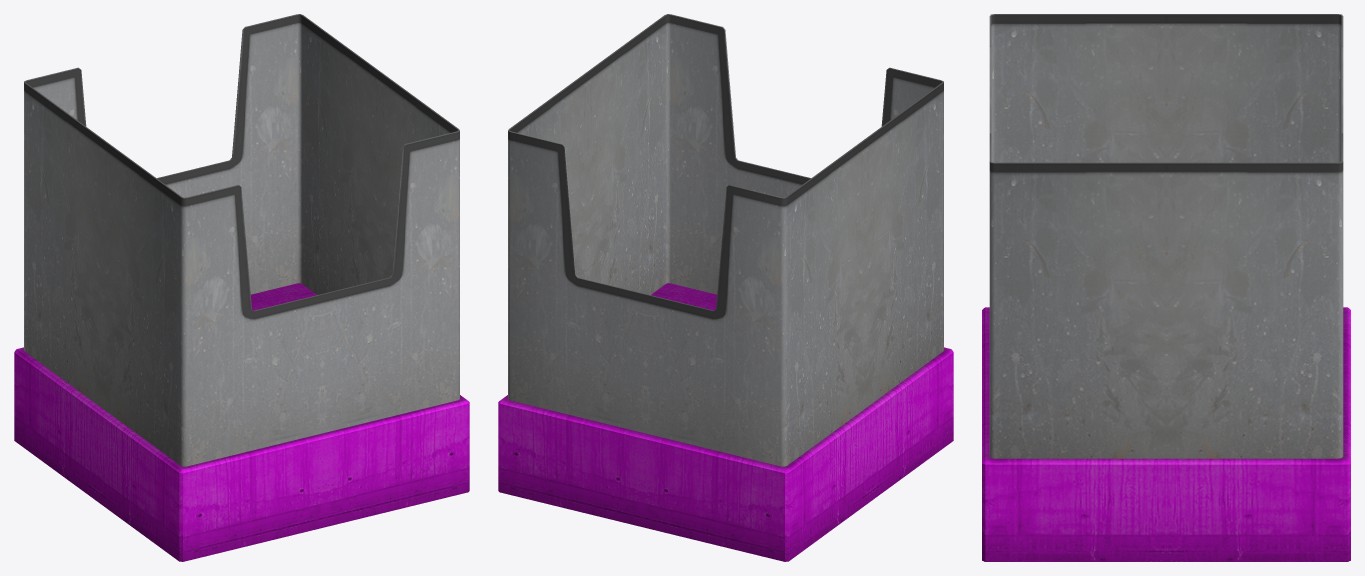
The model's file is bin_purple.dae.
The picture shows the model from 3 angles, left to right: view 1: azimuth 30°, elevation 25°; view 2: azimuth 150°, elevation 25°; view 3: azimuth 270°, elevation 25°; orthographic projection. The views are drawn at different scales.
Parts seen in each view (by area): view 1: Bin; view 2: Bin; view 3: Bin.
Part boxes in pixels (box(x1,y1,x2,y2)): Bin: box(14, 14, 469, 561); Bin: box(498, 14, 953, 561); Bin: box(982, 14, 1350, 561).
Size of the model in its own units: 668 by 668 by 791.
